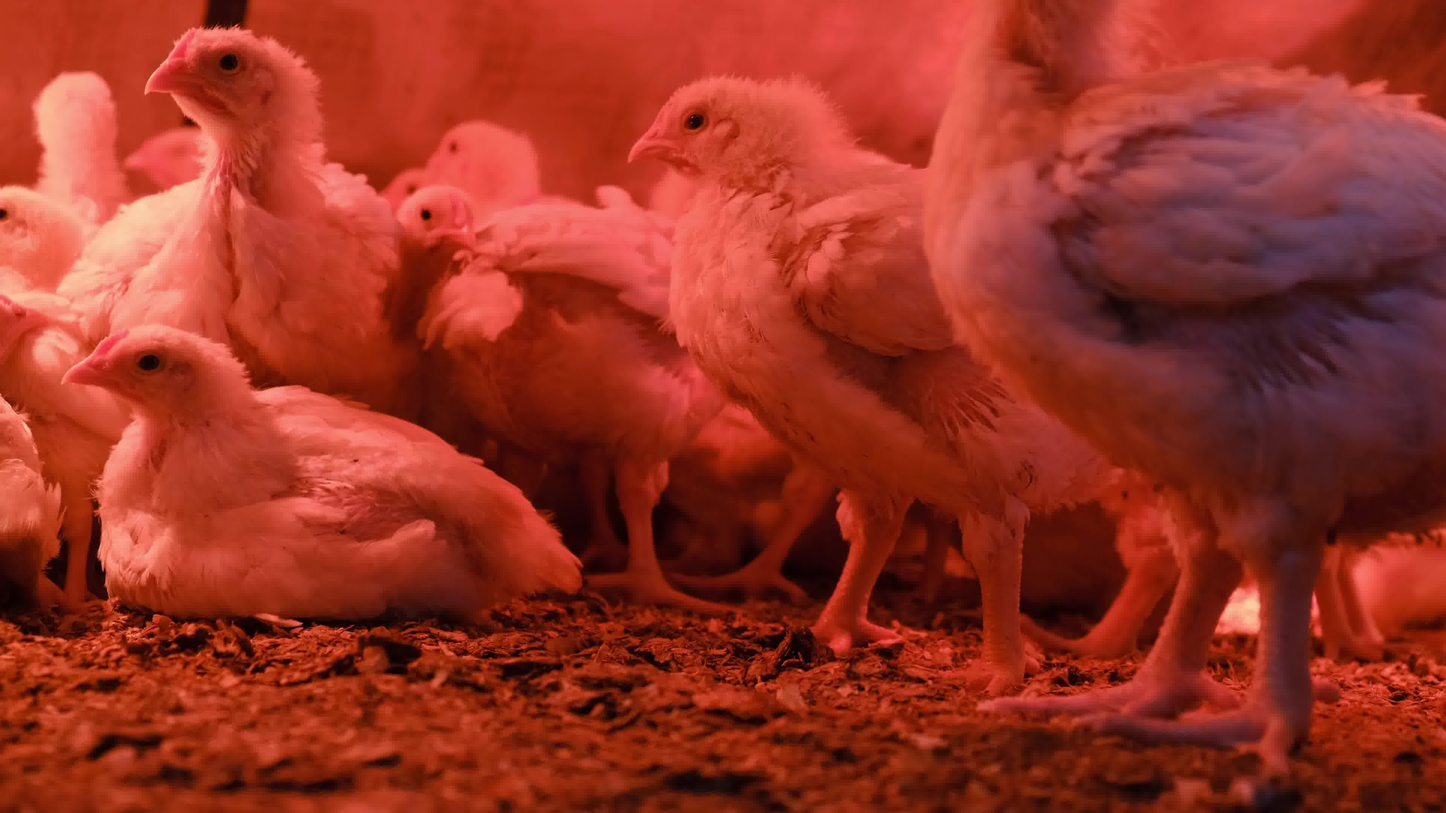AbNormal: (59, 322, 579, 620), (0, 286, 63, 626)
Normal: (925, 0, 1441, 759), (627, 78, 1135, 688), (436, 122, 740, 618), (63, 24, 435, 405), (0, 183, 150, 616), (375, 185, 475, 398), (30, 68, 128, 228), (120, 123, 217, 199), (381, 166, 441, 202)
